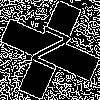Z: (25, 25, 72, 80)
